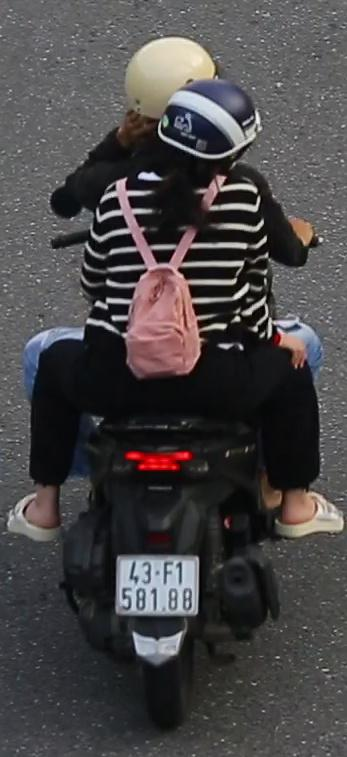LP: (112, 547, 203, 624)
helmet: (161, 78, 263, 169), (118, 36, 219, 112)
